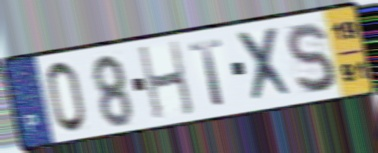0: (46, 59, 89, 136)
8: (89, 50, 135, 129)
H: (136, 39, 197, 123)
S: (284, 20, 338, 97)
T: (187, 36, 228, 109)
X: (233, 24, 297, 106)
